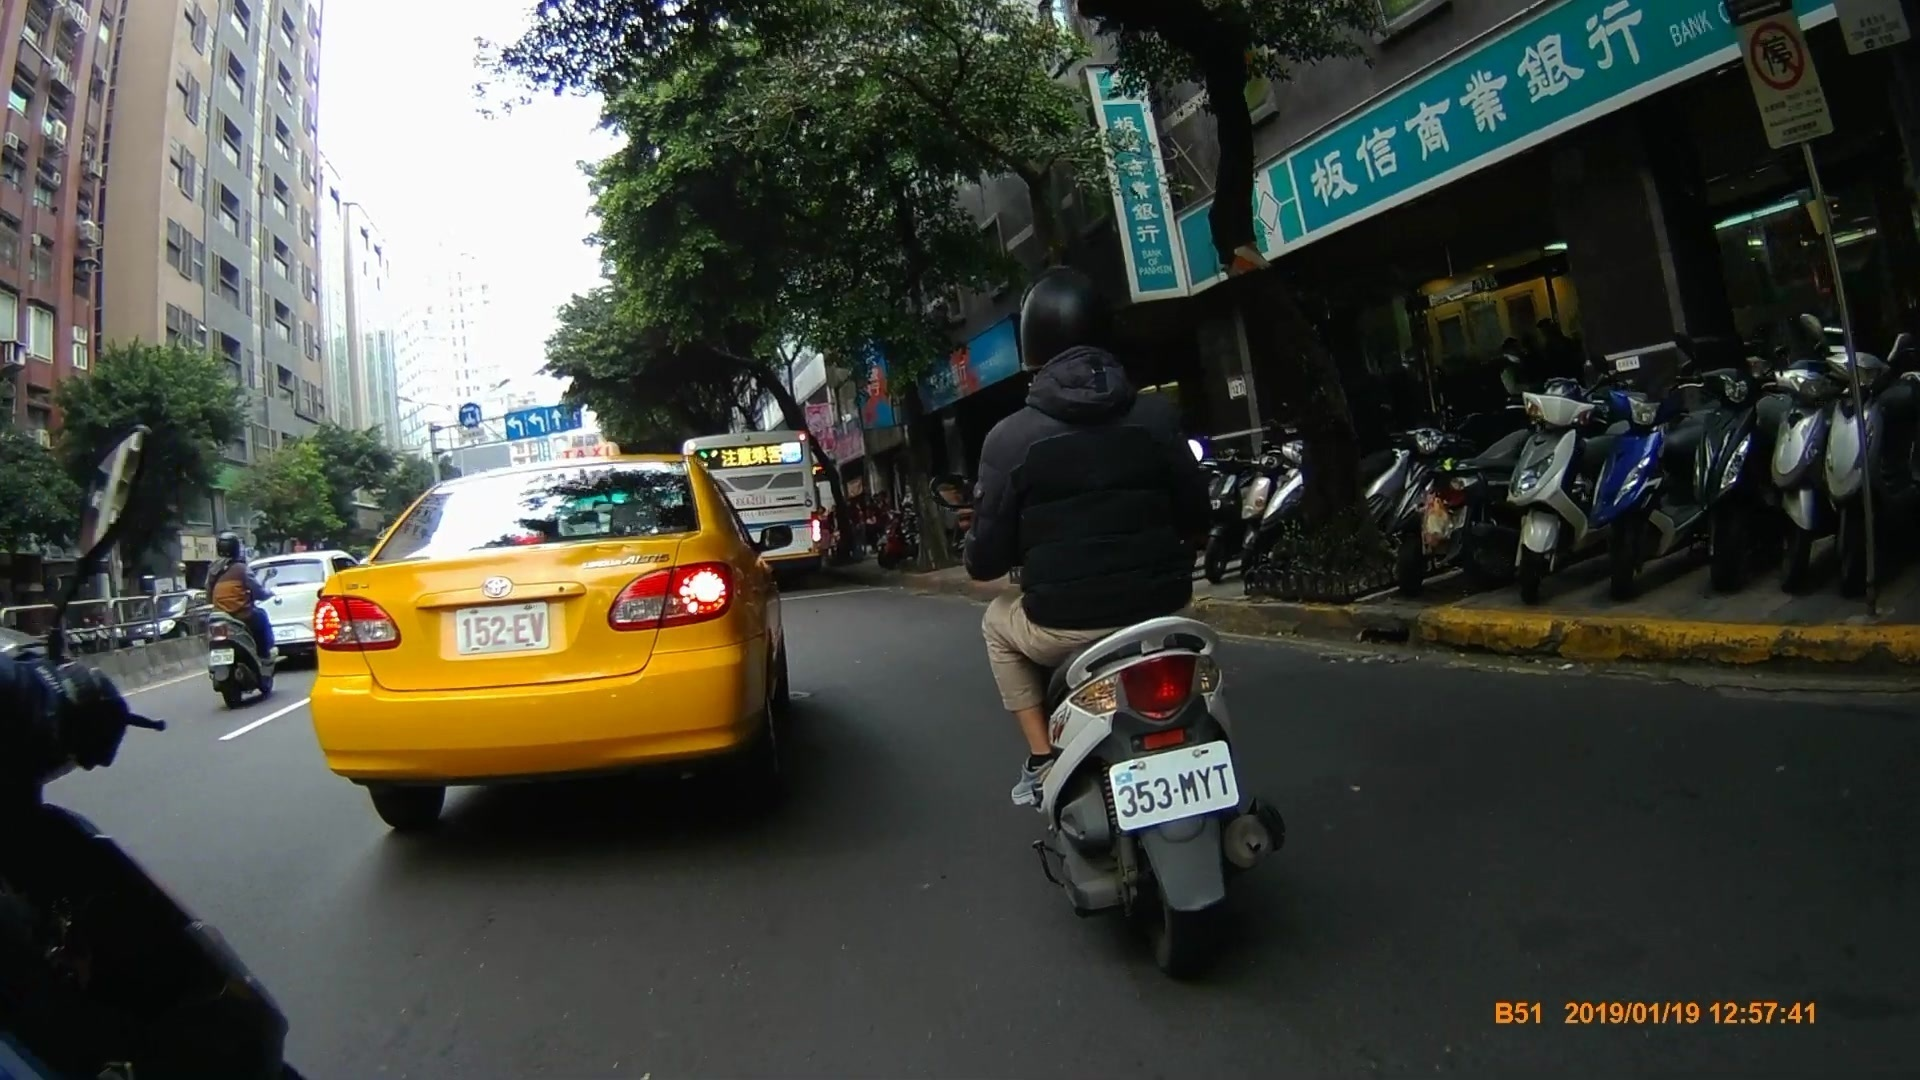License_plate: (1106, 738, 1244, 834), (455, 604, 555, 657)
